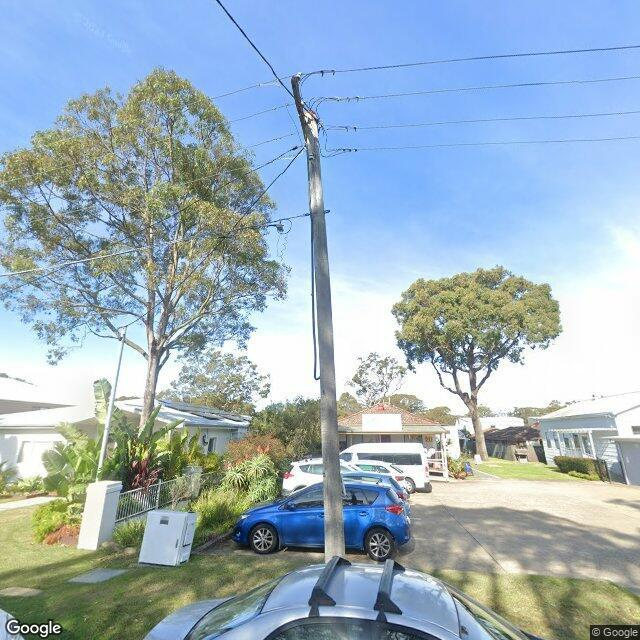crossarm: (291, 75, 306, 142)
steel-pole: (95, 324, 128, 480)
timber-pole: (301, 110, 346, 564)
